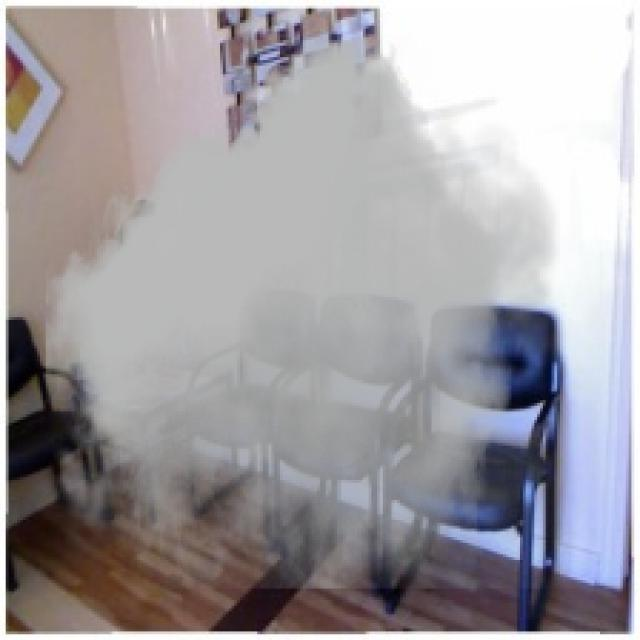Smoke: (37, 34, 572, 589)
